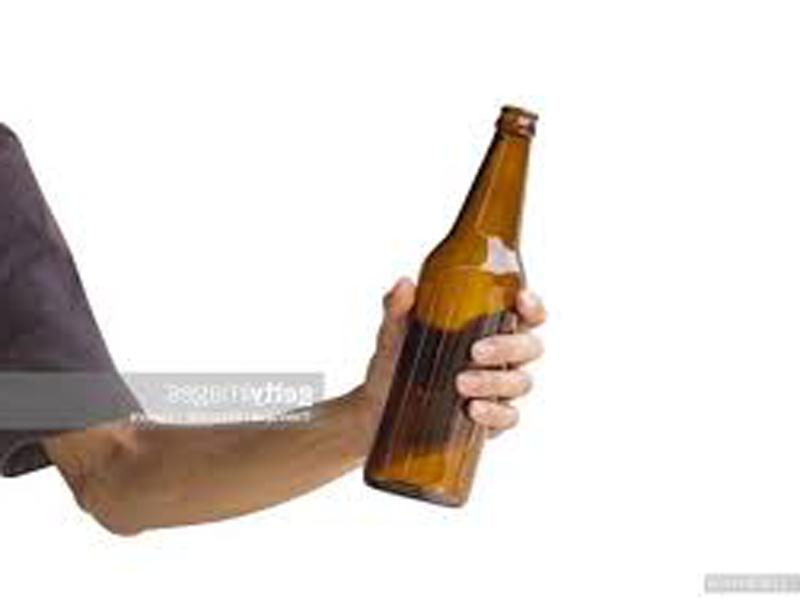Beer: (359, 107, 538, 504)
